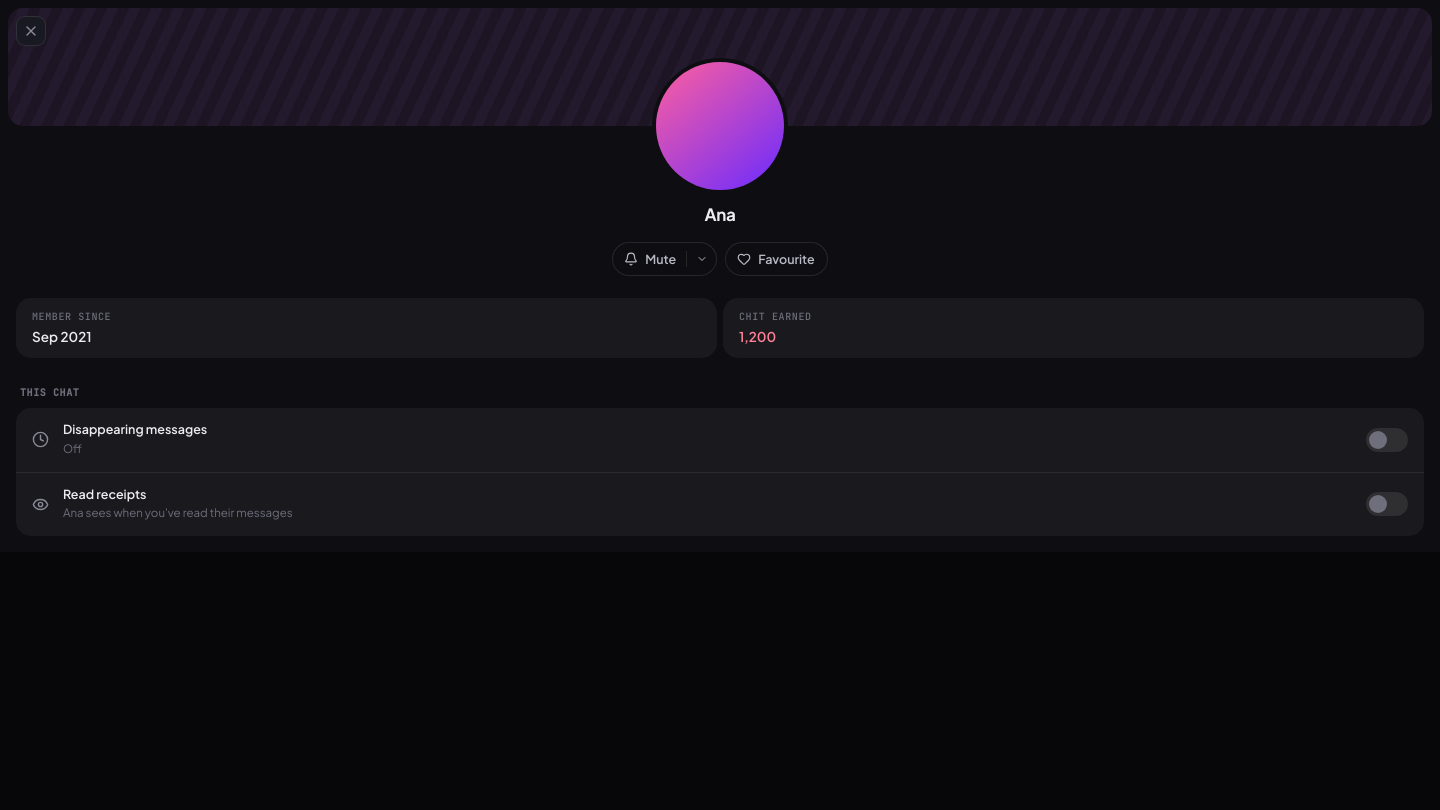
Test case: DmPanel toggles › favourite: both changes rejected ends on the host value with an error
The image size is (1440, 810).
Click the button with class "fav" at (776, 259), box [725, 242, 828, 276]
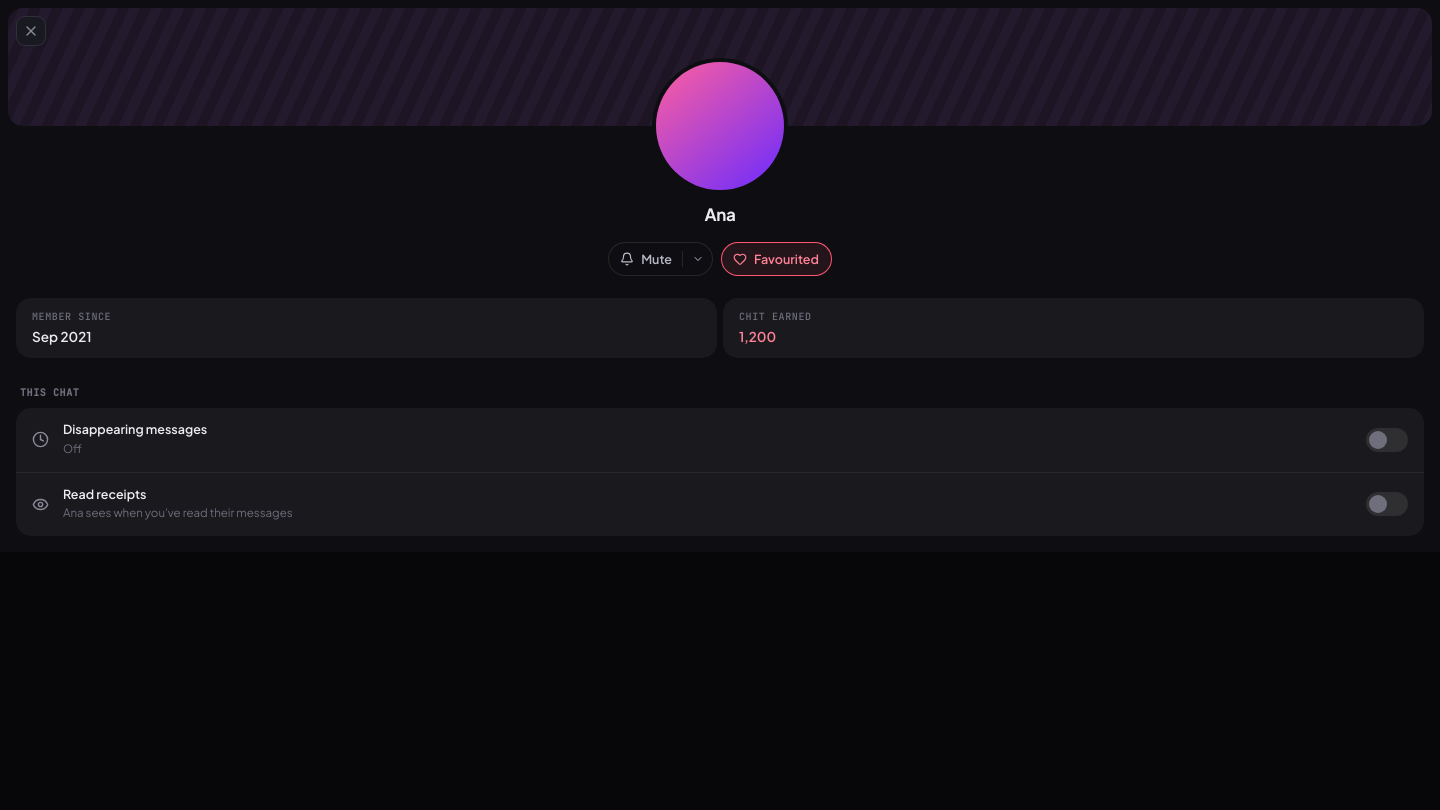
Click the button with class "fav" at (776, 259), box [721, 242, 832, 276]
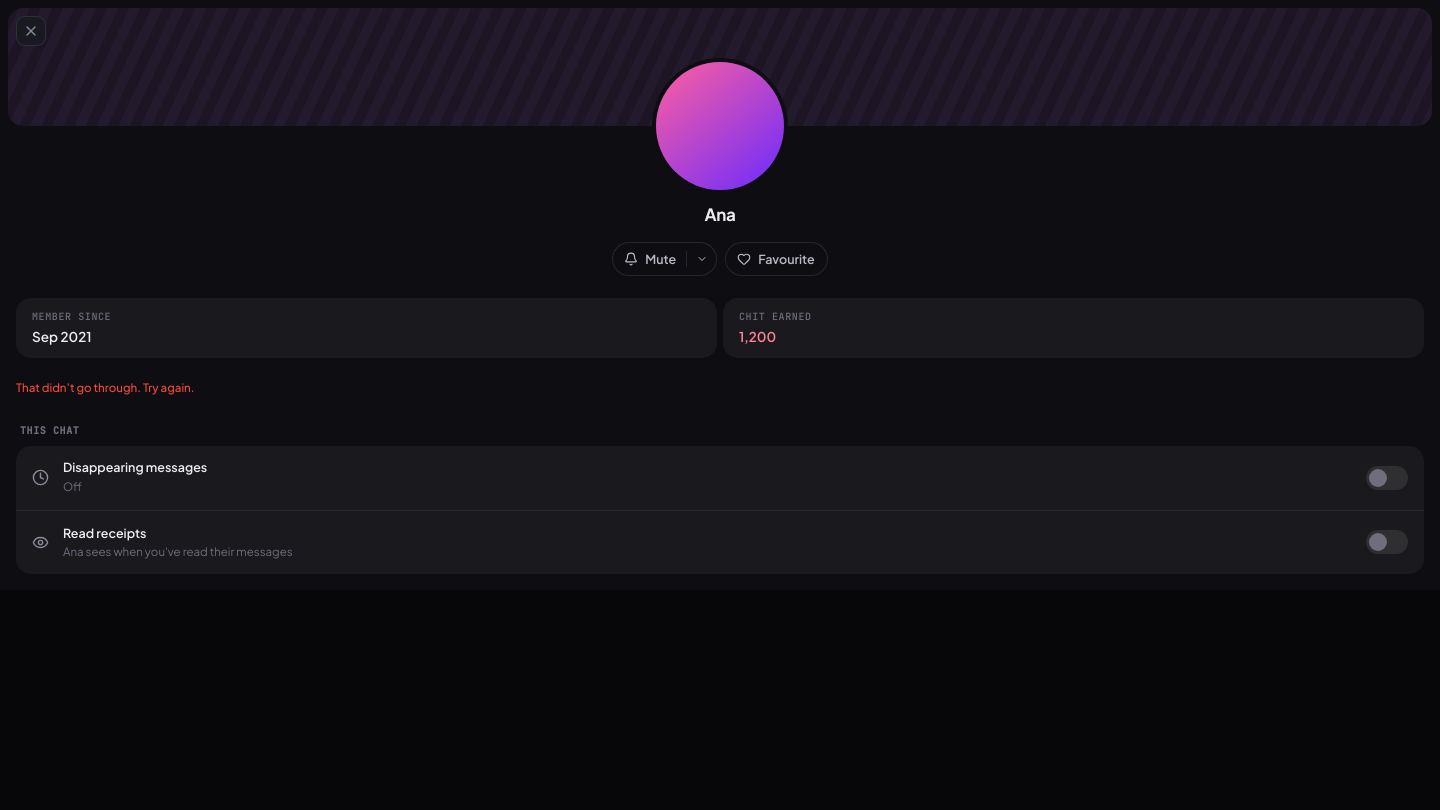
Now the message "That didn’t go through. Try again." is shown, box [16, 380, 194, 395]
